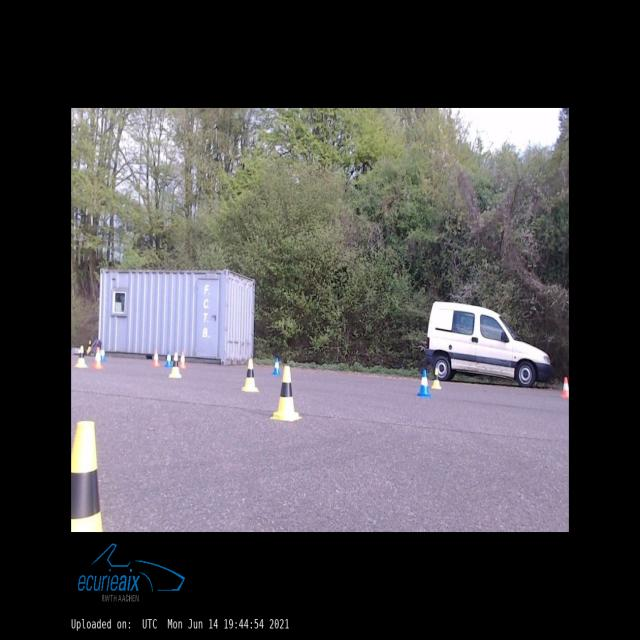blue_cone: (418, 369, 430, 397), (272, 358, 281, 375), (165, 351, 172, 367), (100, 346, 106, 362)
orange_cone: (93, 348, 103, 368), (152, 350, 160, 366), (562, 378, 568, 398), (180, 352, 187, 368)
yellow_cone: (71, 421, 102, 531), (270, 366, 301, 421), (242, 359, 259, 392), (168, 353, 182, 378), (75, 345, 87, 367), (432, 369, 441, 389), (87, 340, 91, 352)
